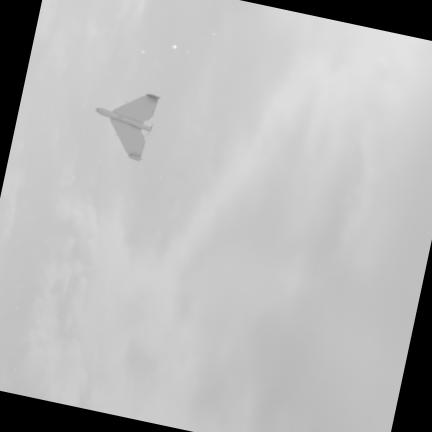Shahed: (94, 92, 160, 162)
